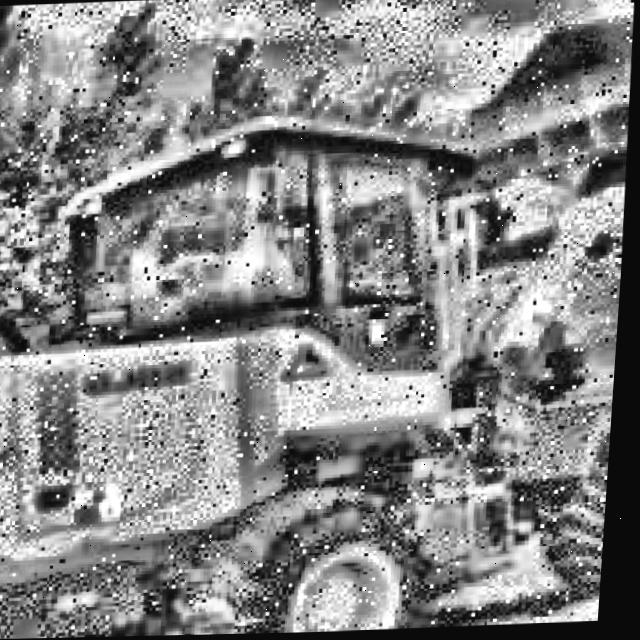buldozerpayloadergrader: (0, 32, 638, 640)
